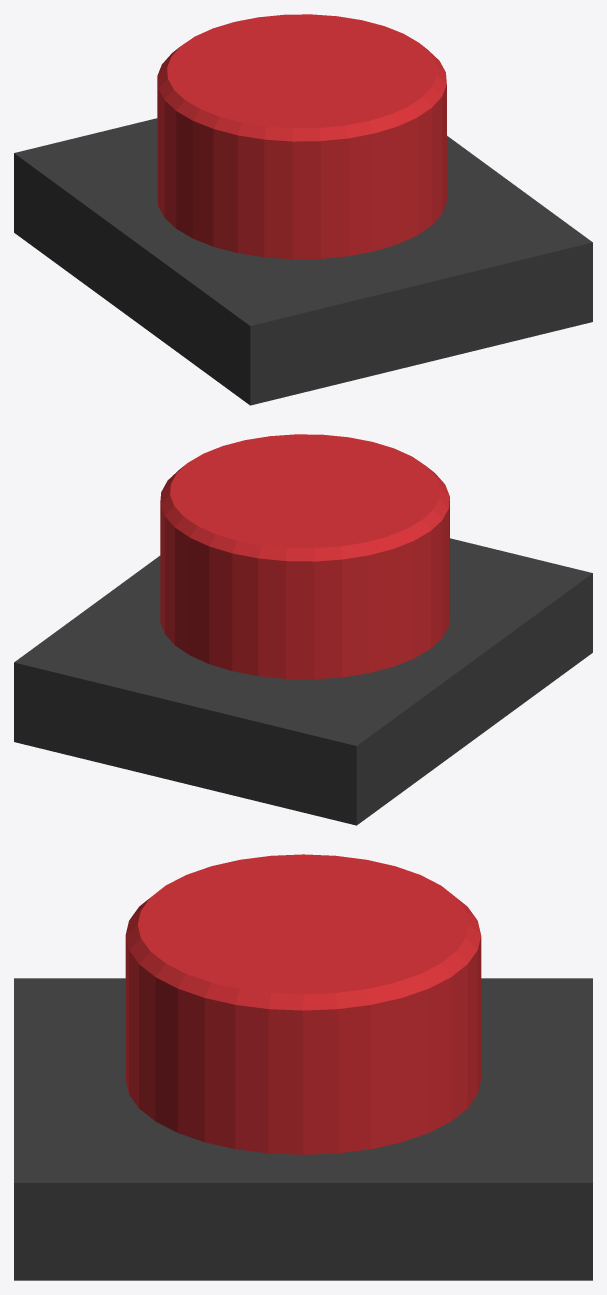
Rendered from boton_rojo.glb.
3 renders of one model, top to bottom at view 1: azimuth 30°, elevation 25°; view 2: azimuth 150°, elevation 25°; view 3: azimuth 270°, elevation 25°, orthographic. The views are drawn at different scales.
Visible parts, largest first — view 1: Cube.002, Cylinder; view 2: Cube.002, Cylinder; view 3: Cube.002, Cylinder.
Boxes of the visible parts, bbox=[...] form: Cube.002: bbox=[14, 118, 592, 405]; Cylinder: bbox=[157, 14, 446, 259]; Cube.002: bbox=[14, 538, 592, 825]; Cylinder: bbox=[160, 434, 449, 679]; Cube.002: bbox=[14, 978, 592, 1280]; Cylinder: bbox=[125, 854, 481, 1154].
Bounding box in the file's own units: 0.1609 × 0.0925 × 0.1921.
